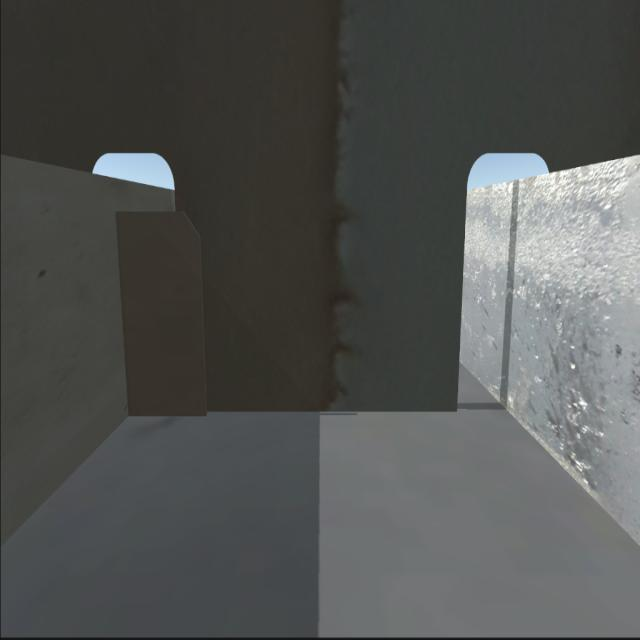fillet_yong_jeop_jang: (128, 404, 456, 416)
longi_yong_jeop_jang: (114, 216, 138, 412)
plate_CP03: (121, 214, 198, 416)
